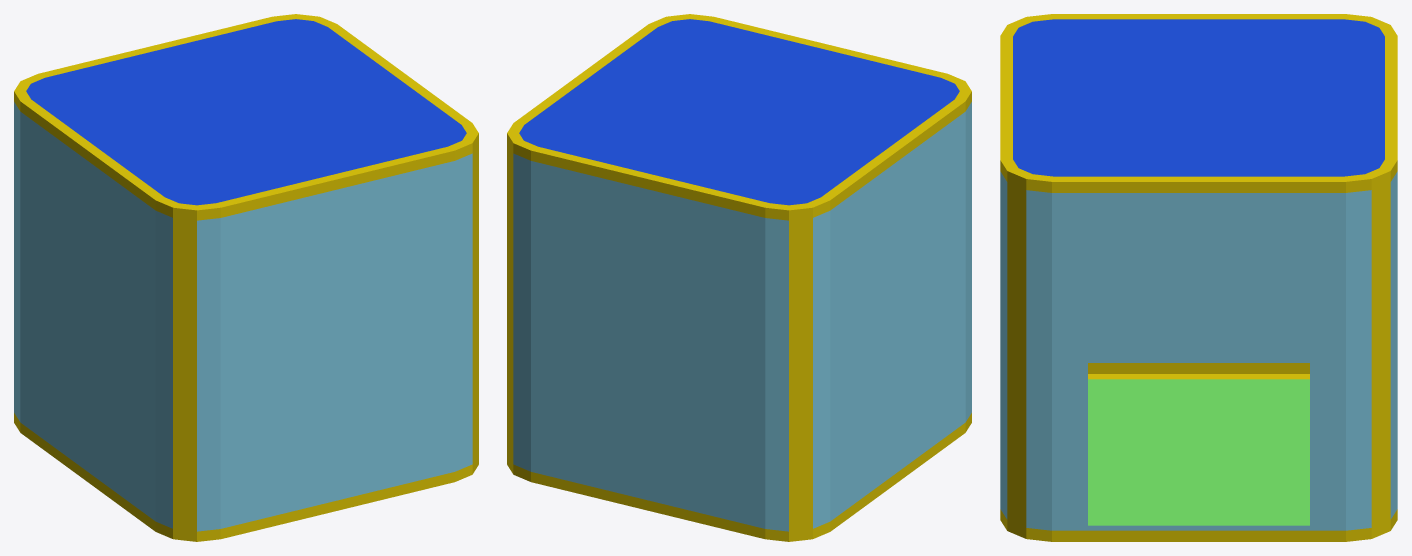
The model's file is Basic Room.fbx.
3 renders of one model, left to right at view 1: azimuth 30°, elevation 25°; view 2: azimuth 150°, elevation 25°; view 3: azimuth 270°, elevation 25°, orthographic. The views are drawn at different scales.
Visible parts, largest first — view 1: Cube; view 2: Cube; view 3: Cube.
Boxes of the visible parts, left/top/right/bottom form: Cube: left=14, top=14, right=478, bottom=541; Cube: left=507, top=14, right=971, bottom=541; Cube: left=1000, top=14, right=1397, bottom=541.
Size of the model in its own units: 189 by 189 by 189.
